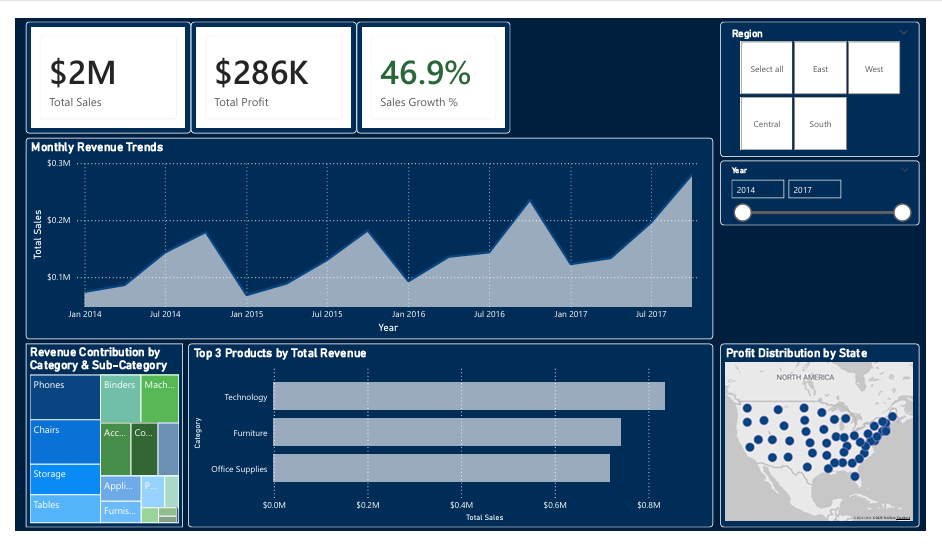

This screenshot's page, from the dashboard's own definition file:
{"tool":"powerbi","page":{"name":"Page 1","canvas":[1280,720],"ordinal":0},"visuals":[{"type":"cardVisual","fields":{"Data":["_Key Measures.Total Sales"]},"box":[15.1,5.5,231.9,156.4],"z":0},{"type":"lineChart","title":"Monthly Revenue Trends","fields":{"Category":["CalendarTable.Date.Variation.Date Hierarchy.Year","CalendarTable.Date.Variation.Date Hierarchy.Quarter","CalendarTable.Date.Variation.Date Hierarchy.Month","CalendarTable.Date.Variation.Date Hierarchy.Day"],"Y":["_Key Measures.Total Sales"]},"box":[15,168,966,282.7],"z":1000},{"type":"cardVisual","fields":{"Data":["_Key Measures.Total Profit"]},"box":[247,5.5,233.3,156.4],"z":2000},{"type":"clusteredBarChart","title":"Top 3 Products by Total Revenue","fields":{"Category":["Sample - Superstore.Category"],"Y":["_Key Measures.Total Sales"]},"box":[242.9,456.9,738.3,258],"z":3000},{"type":"azureMap","title":"Profit Distribution by State","fields":{"Category":["Sample - Superstore.State"]},"box":[990.7,457,279.9,258],"z":4000},{"type":"slicer","fields":{"Values":["Sample - Superstore.Region"]},"box":[990.7,5.5,279.9,189.4],"z":5000},{"type":"slicer","fields":{"Values":["CalendarTable.Year"]},"box":[990.7,200,279.9,90.6],"z":6000},{"type":"cardVisual","title":"YoY Sales Growth %","fields":{"Data":["_Key Measures.Sales Growth %"]},"box":[480.3,5.5,215.4,156.4],"z":7000},{"type":"treemap","title":"Revenue Contribution by Category & Sub-Category","fields":{"Group":["Sample - Superstore.Category","Sample - Superstore.Sub-Category"],"Values":["_Key Measures.Total Sales"]},"box":[15.1,457,220.9,258],"z":8000}]}

Visuals, with their boxes in screenshot pixels (x1, y1, x2, y2):
cardVisual - _Key Measures.Total Sales: bbox=[13, 14, 182, 127]
"Monthly Revenue Trends" lineChart: bbox=[13, 132, 714, 337]
cardVisual - _Key Measures.Total Profit: bbox=[182, 14, 351, 127]
"Top 3 Products by Total Revenue" clusteredBarChart: bbox=[179, 341, 715, 529]
"Profit Distribution by State" azureMap: bbox=[721, 341, 925, 529]
slicer - Sample - Superstore.Region: bbox=[721, 14, 925, 151]
slicer - CalendarTable.Year: bbox=[721, 155, 925, 221]
"YoY Sales Growth %" cardVisual: bbox=[351, 14, 507, 127]
"Revenue Contribution by Category & Sub-Category" treemap: bbox=[13, 341, 174, 529]
